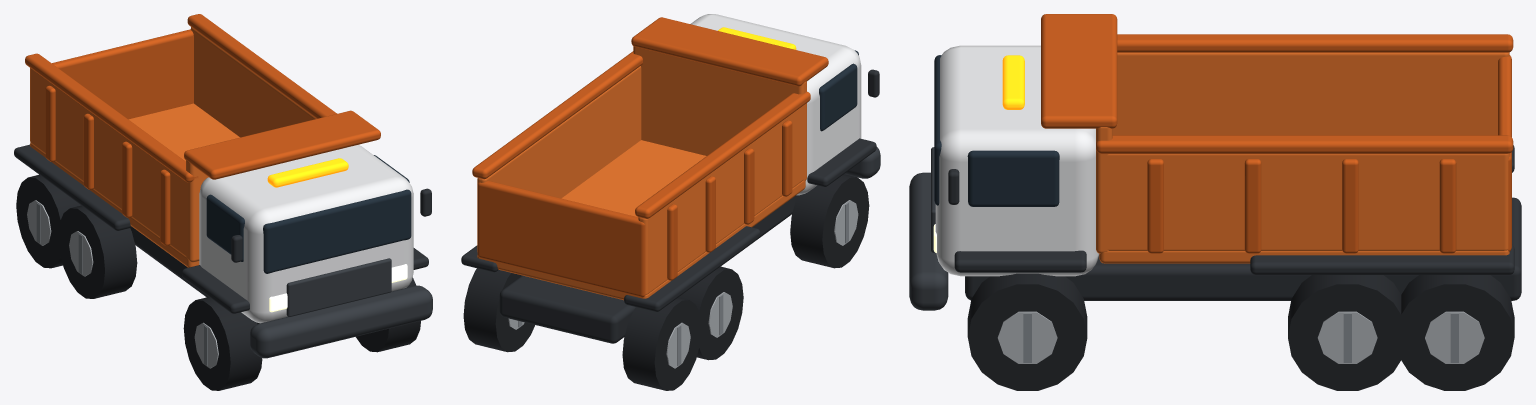
File: truck.glb
The picture shows the model from 3 angles, left to right: view 1: azimuth 30°, elevation 25°; view 2: azimuth 150°, elevation 25°; view 3: azimuth 270°, elevation 25°; orthographic projection. The views are drawn at different scales.
Size of the model in its own units: 2.1 by 2.11 by 4.4.
